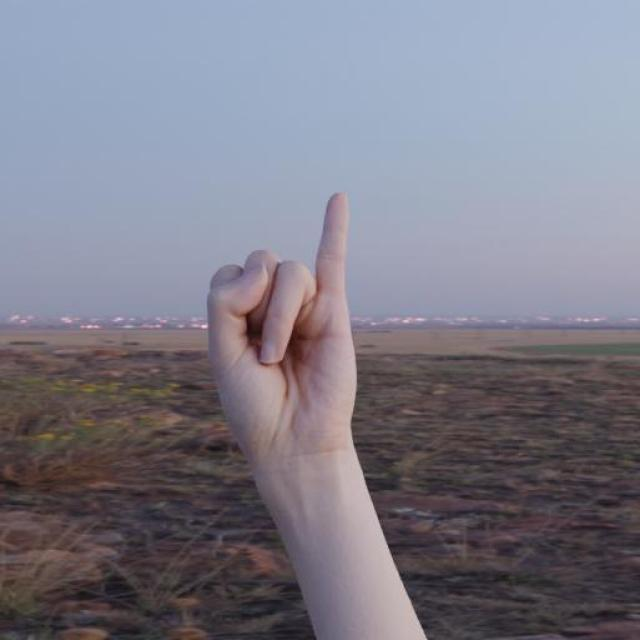I: (205, 192, 360, 444)
